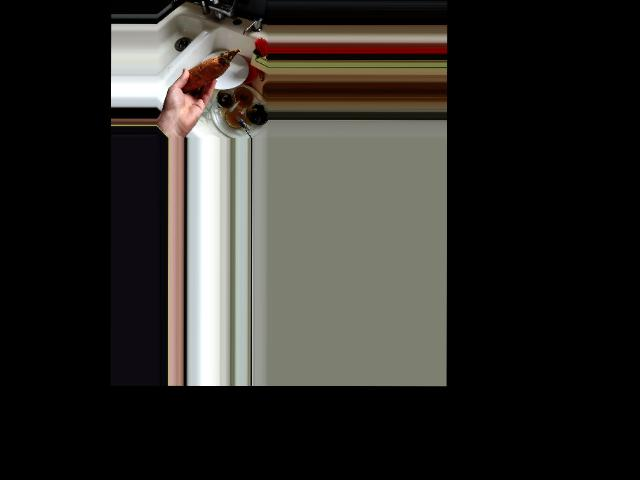sweet_potato: (176, 48, 241, 96)
